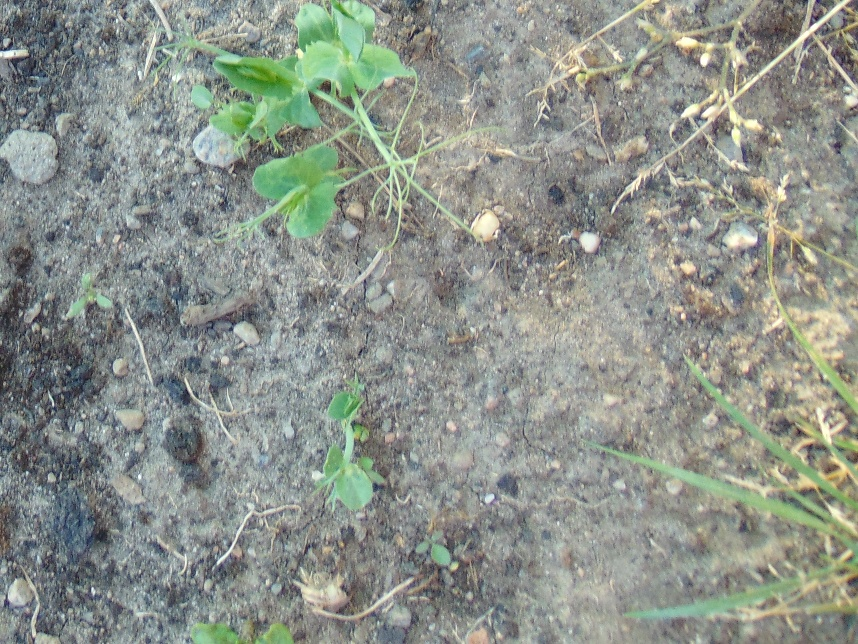crop: (177, 3, 424, 236), (307, 378, 383, 519)
weed: (774, 368, 858, 599), (184, 621, 292, 644), (62, 272, 115, 318), (415, 527, 454, 570)
